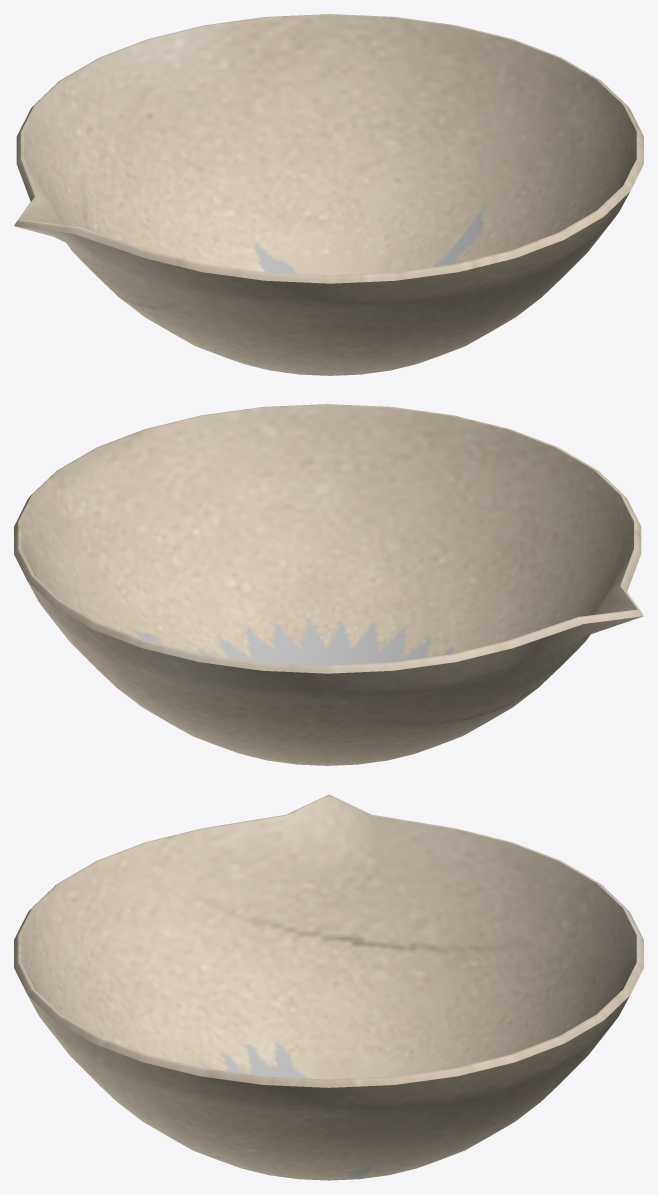
Rendered from china dish.fbx.
3 renders of one model, top to bottom at view 1: azimuth 30°, elevation 25°; view 2: azimuth 150°, elevation 25°; view 3: azimuth 270°, elevation 25°, orthographic.
Parts seen in each view (by area): view 1: china_dish1; view 2: china_dish1; view 3: china_dish1.
Part boxes in pixels (bbox=[...]): china_dish1: bbox=[14, 14, 643, 375]; china_dish1: bbox=[14, 404, 643, 765]; china_dish1: bbox=[14, 794, 643, 1180].
Size of the model in its own units: 9.34 by 3.08 by 8.6.
